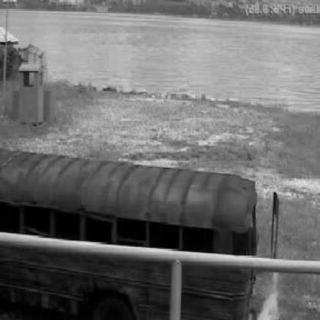Fire: (249, 235, 297, 318)
